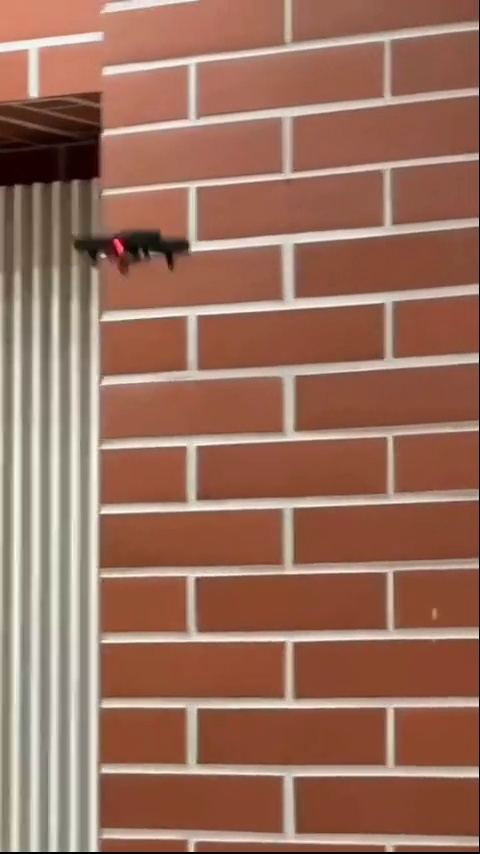drone: (71, 227, 191, 274)
